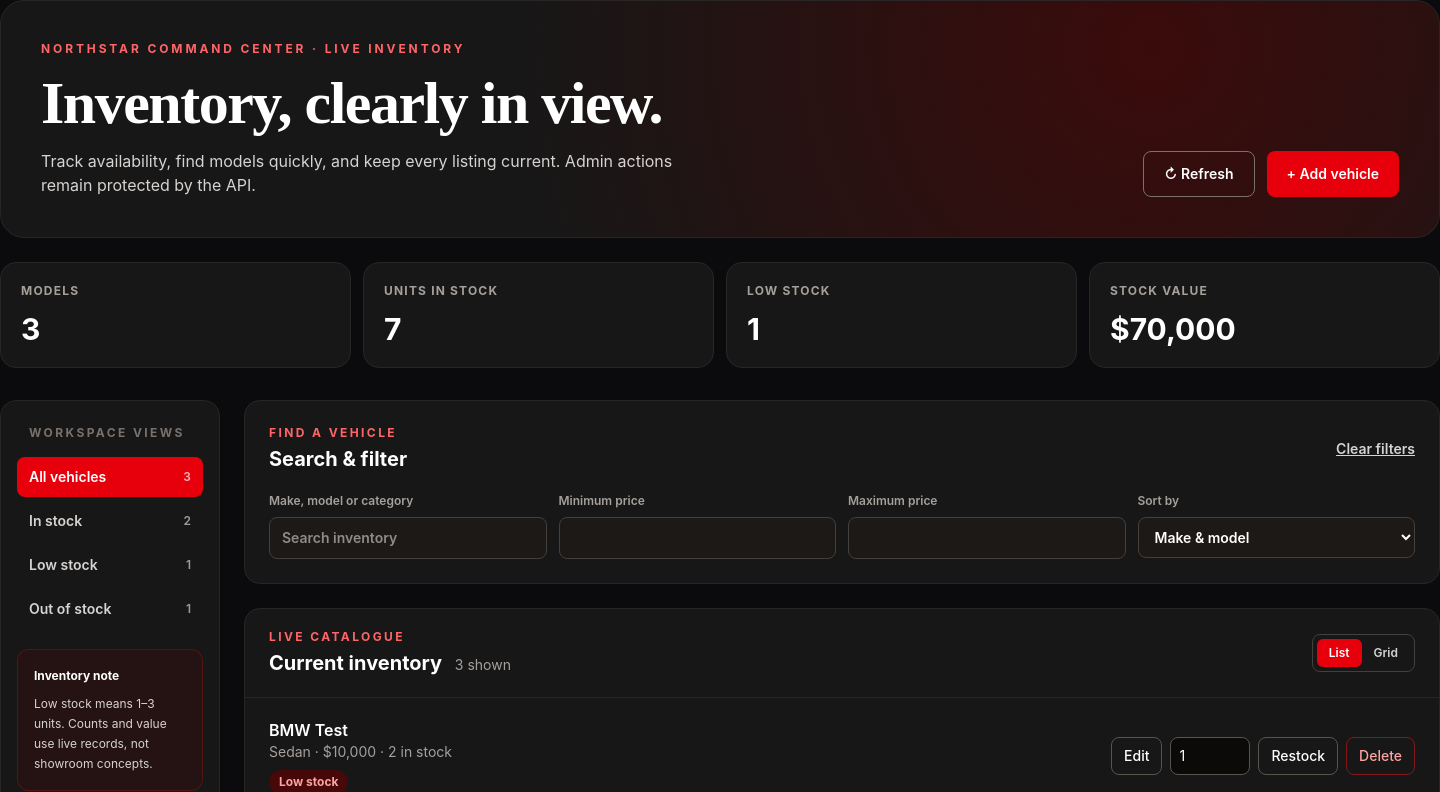
admin inventory workspace › shows live metrics and filters low-stock vehicles
expect the heading "BMW Test" is shown: met, box [269,720,348,740]
expect the text "$70,000" is shown: met, box [1110,311,1236,347]
Click the button "Low stock 1" at (110, 565), box [17,545,203,585]
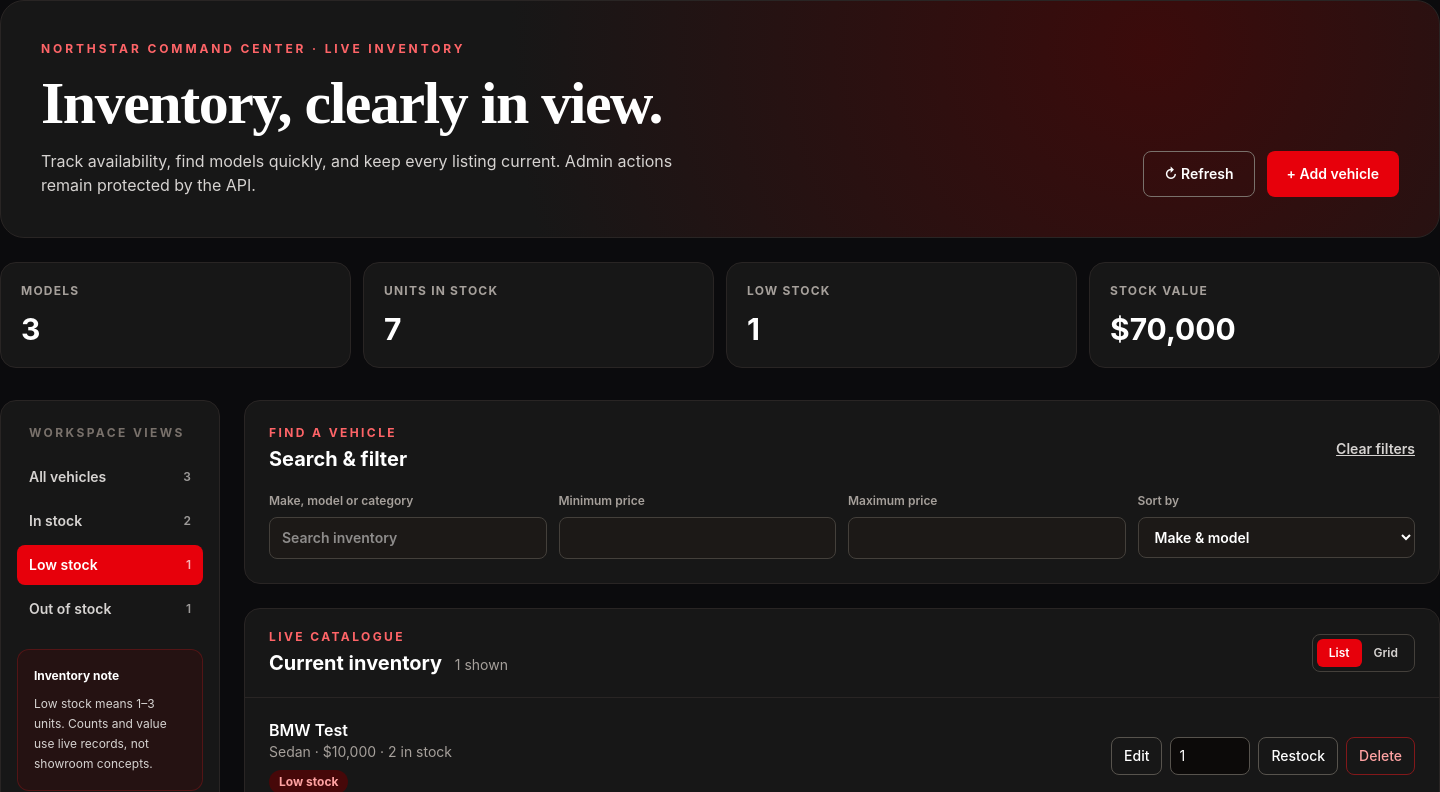
expect the heading "BMW Test" is shown: met, box [269,720,348,740]
Click the button "+ Add vehicle" at (1333, 174), box [1266,151,1399,197]
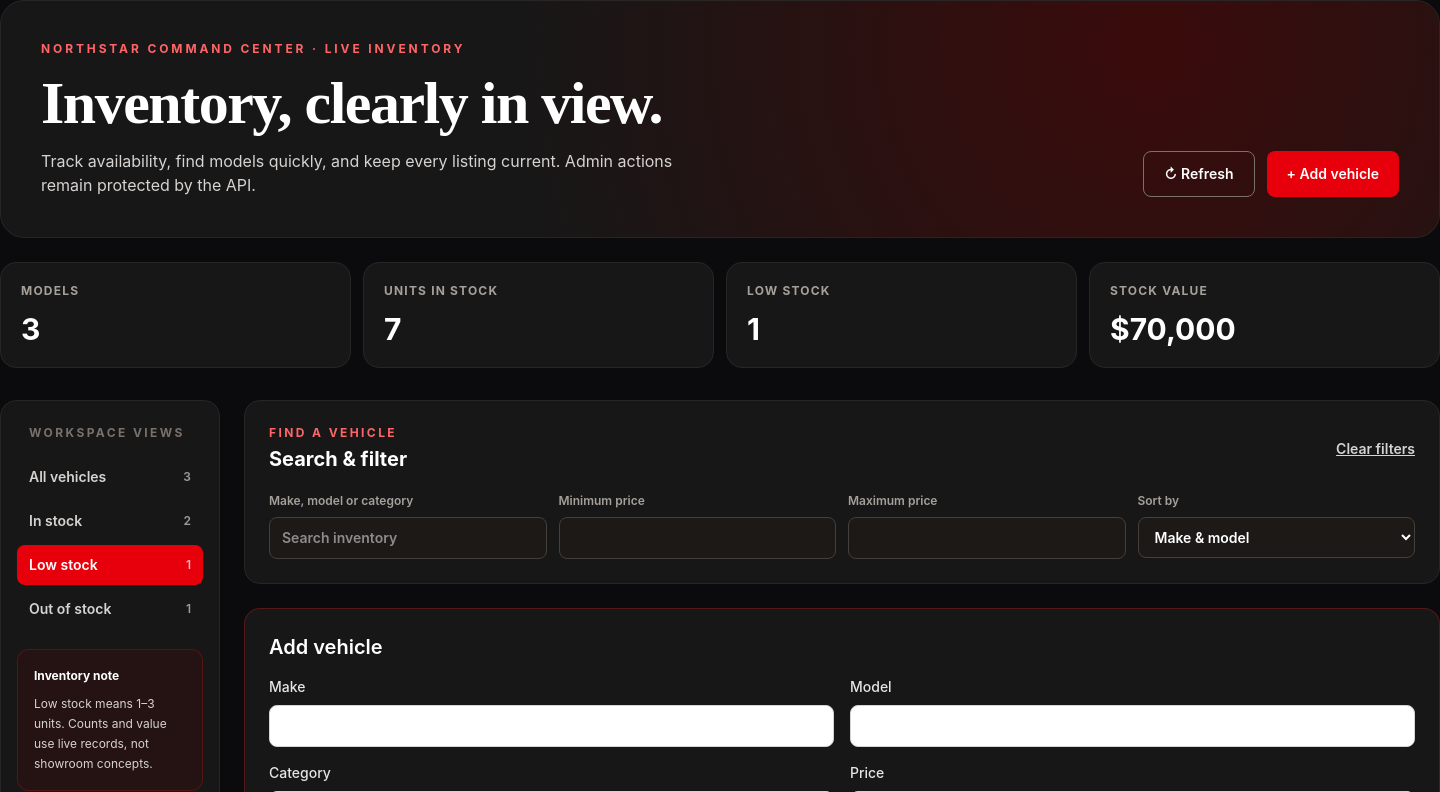
expect the heading "Add vehicle" is shown: met, box [269,635,383,659]
